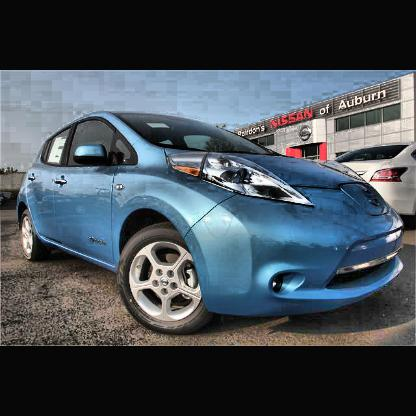Nissan Leaf Hatchback 2012: (15, 109, 407, 338)
